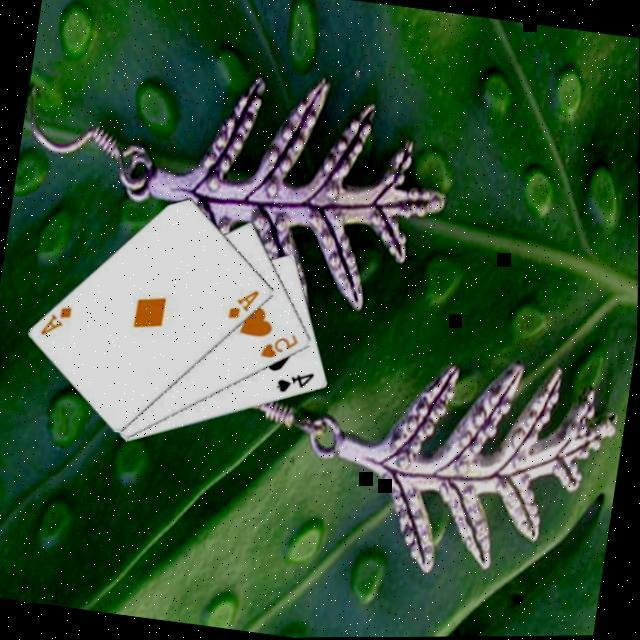4S: (272, 364, 317, 398)
5H: (257, 325, 302, 364)
AD: (224, 281, 263, 323), (37, 298, 76, 340)
